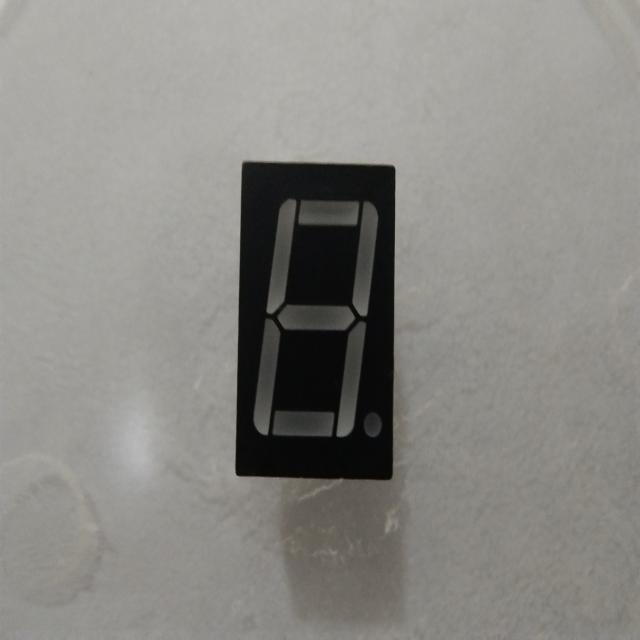7_segments: (230, 145, 402, 494)
